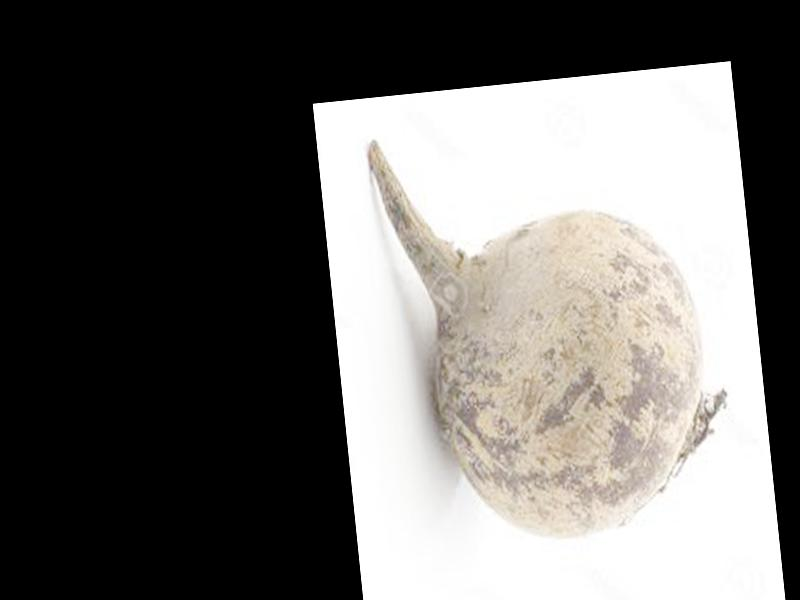Beet: (368, 110, 739, 554)
